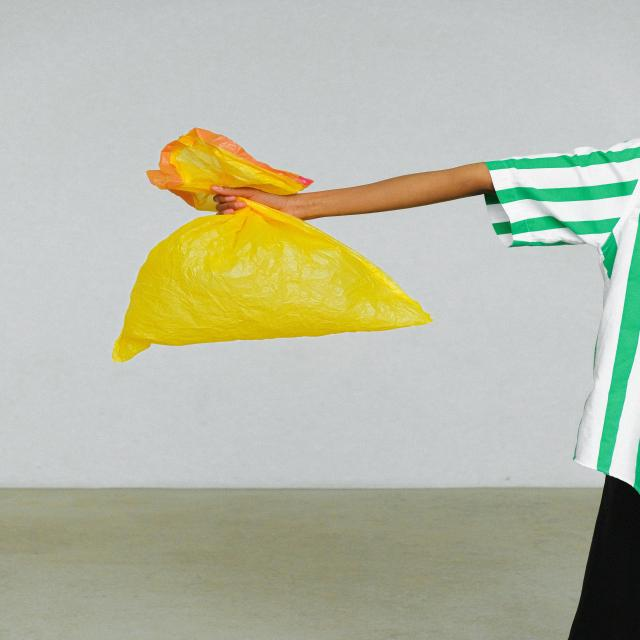trash: (157, 231, 360, 336)
